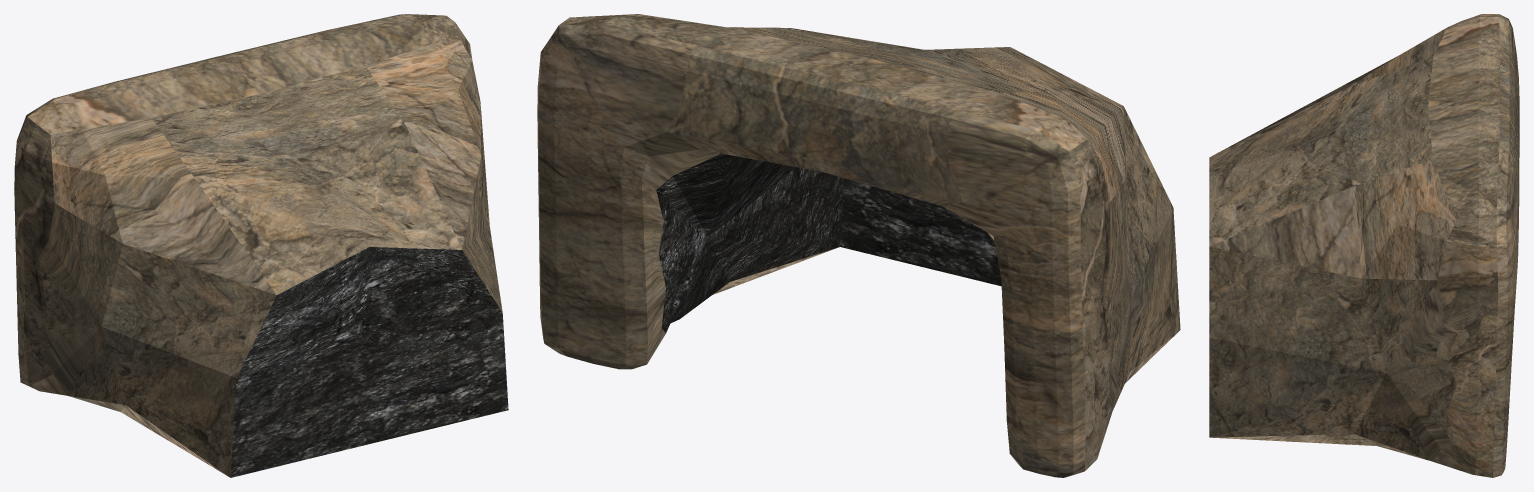
File: lareira.fbx
The picture shows the model from 3 angles, left to right: view 1: azimuth 30°, elevation 25°; view 2: azimuth 150°, elevation 25°; view 3: azimuth 270°, elevation 25°; orthographic projection. The views are drawn at different scales.
Parts seen in each view (by area): view 1: Cube.003; view 2: Cube.003; view 3: Cube.003.
Boxes of the visible parts, x1=… form: Cube.003: x1=14, y1=14, x2=508, y2=477; Cube.003: x1=537, y1=14, x2=1180, y2=477; Cube.003: x1=1209, y1=14, x2=1519, y2=477.
Size of the model in its own units: 503 by 300 by 307.
